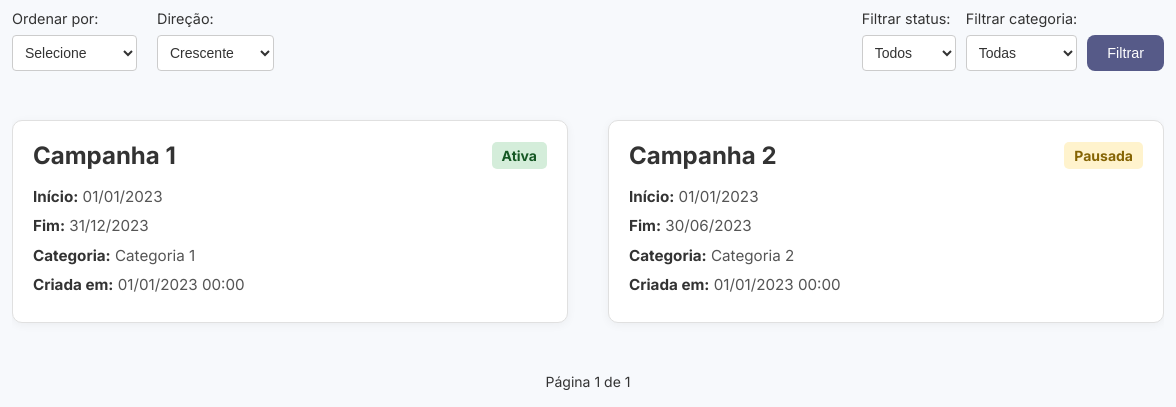
it: Lista de Campanhas › renderiza a lista de campanhas e filtros corretamente
Expected: the heading "Campanha 1" is shown, [33, 141, 176, 170]
Expected: the heading "Campanha 2" is shown, [629, 141, 776, 170]
Select "Ativa" in the dropdown labelled "Filtrar status:" at (909, 52), box [862, 34, 956, 70]
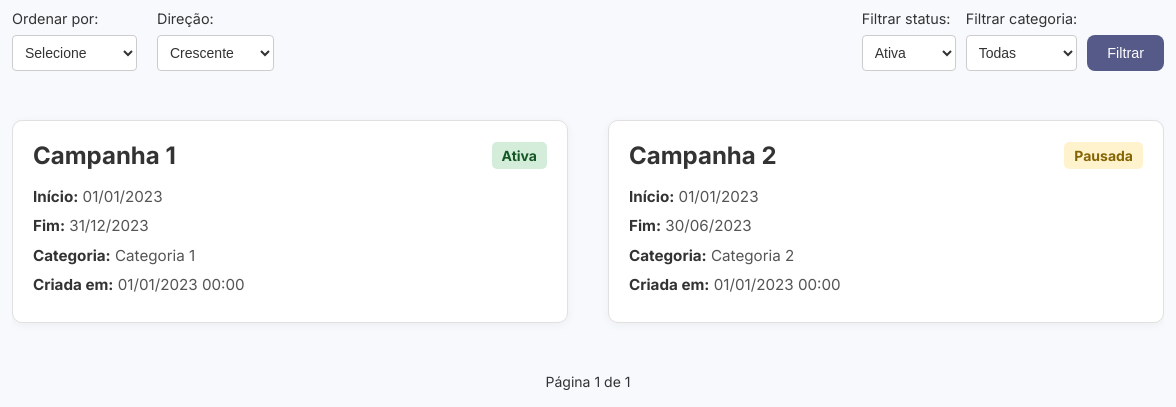
Click the button "Filtrar" at (1126, 52), box [1087, 34, 1164, 70]
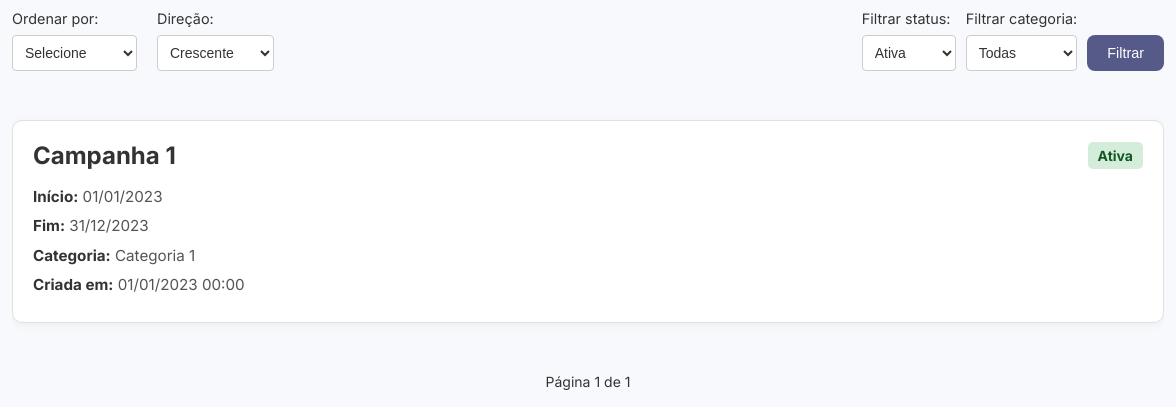
Expected: the heading "Campanha 1" is shown, [33, 141, 176, 170]
Expected: the heading "Campanha 2" is gone
